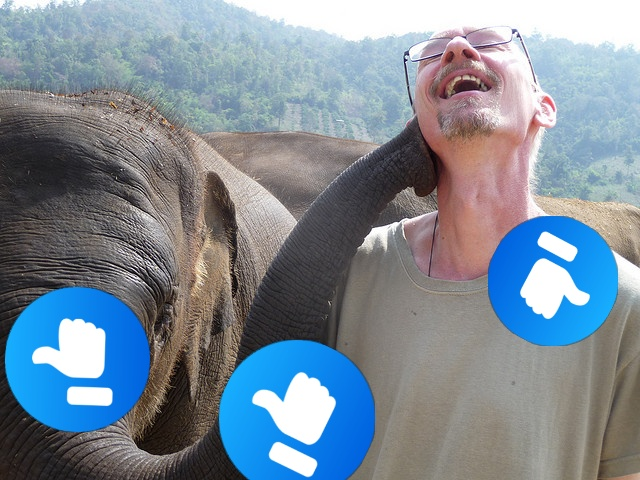like: (219, 340, 375, 480), (5, 287, 150, 432), (488, 216, 618, 346)
